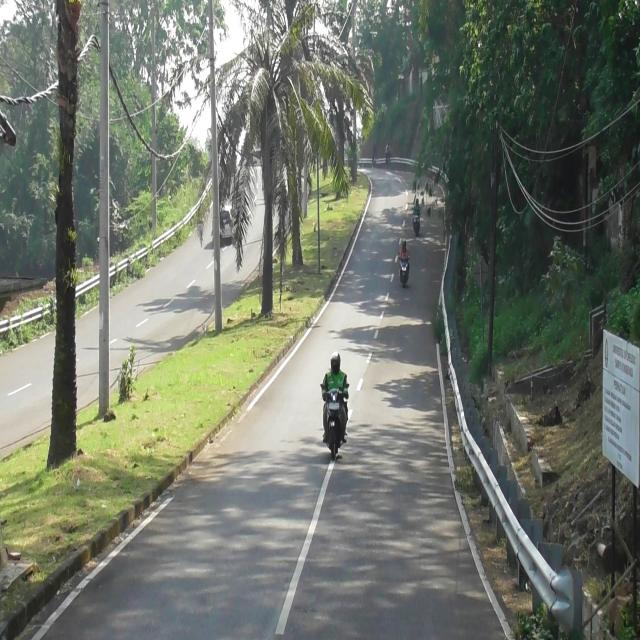motorcycle: (323, 383, 347, 460), (399, 256, 411, 286)
person: (322, 352, 348, 446), (400, 239, 411, 262)
rider_region: (323, 350, 348, 466), (398, 237, 411, 289)
